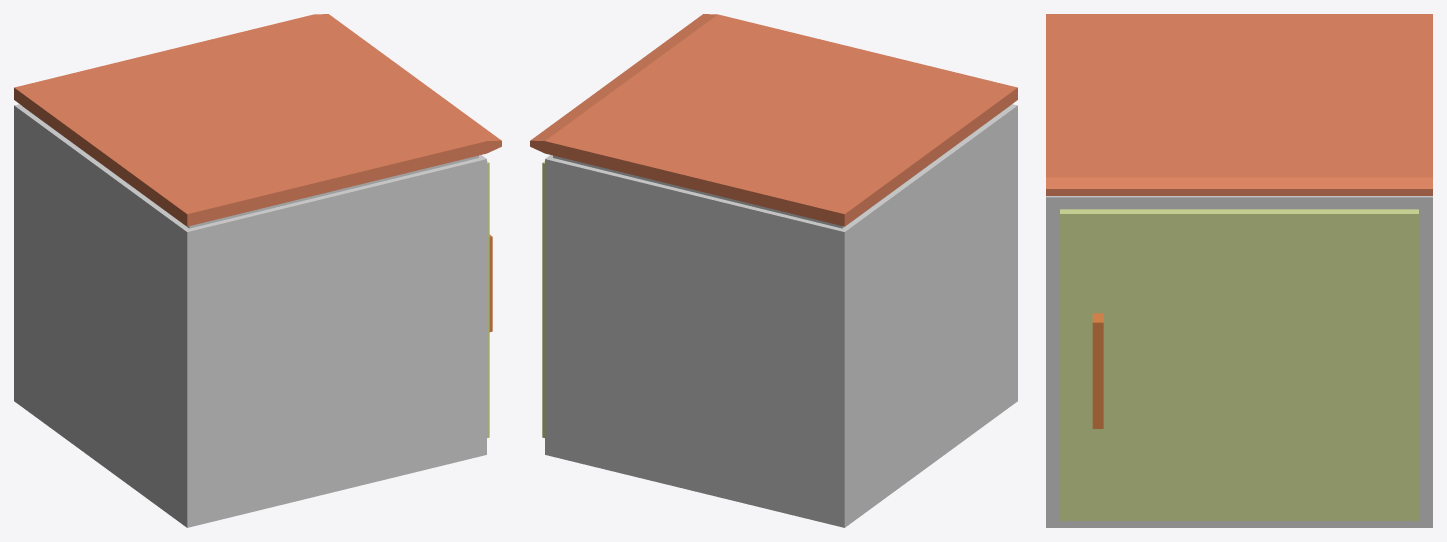
File: Counter.fbx
3 renders of one model, left to right at view 1: azimuth 30°, elevation 25°; view 2: azimuth 150°, elevation 25°; view 3: azimuth 270°, elevation 25°, orthographic. The views are drawn at different scales.
Visible parts, largest first — view 1: Kitchen counter; view 2: Kitchen counter; view 3: Kitchen counter.
Boxes of the visible parts, left/top/right/bottom form: Kitchen counter: left=14, top=14, right=501, bottom=527; Kitchen counter: left=530, top=14, right=1017, bottom=527; Kitchen counter: left=1046, top=14, right=1432, bottom=527.
Bounding box in the file's own units: 109 × 100 × 100.
